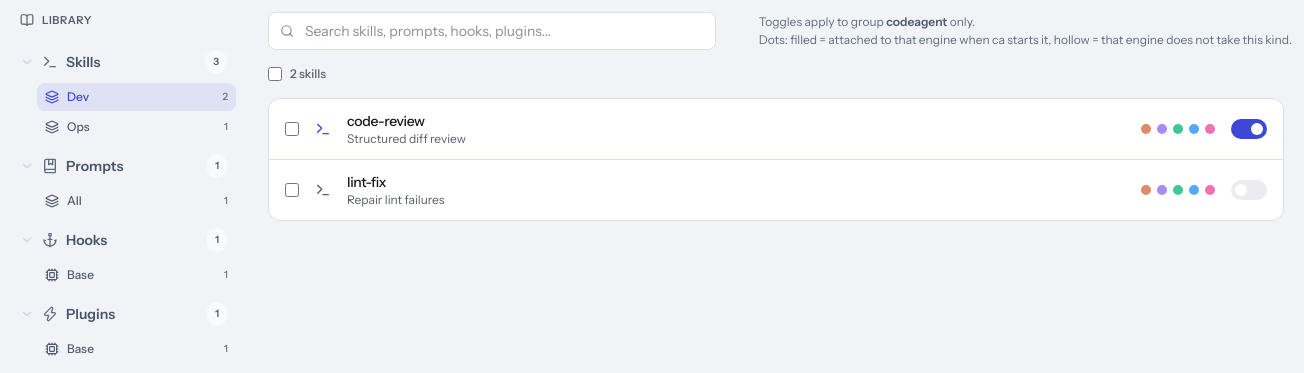
Scenario: ResourceHub cards and detail view › switching category swaps the listed cards
Expected: the heading "code-review" is shown, [347, 111, 425, 131]
Expected: the heading "lint-fix" is shown, [347, 172, 386, 192]
Click the button "ops 1": x=136, y=126 [37, 112, 236, 140]
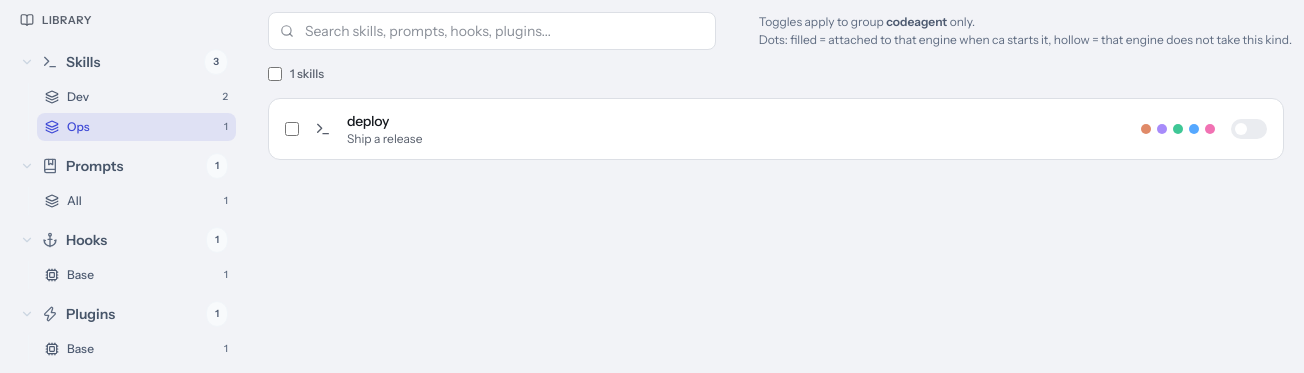
Now the heading "deploy" is shown, box [347, 111, 389, 131]
Now the button "code-review" is gone
